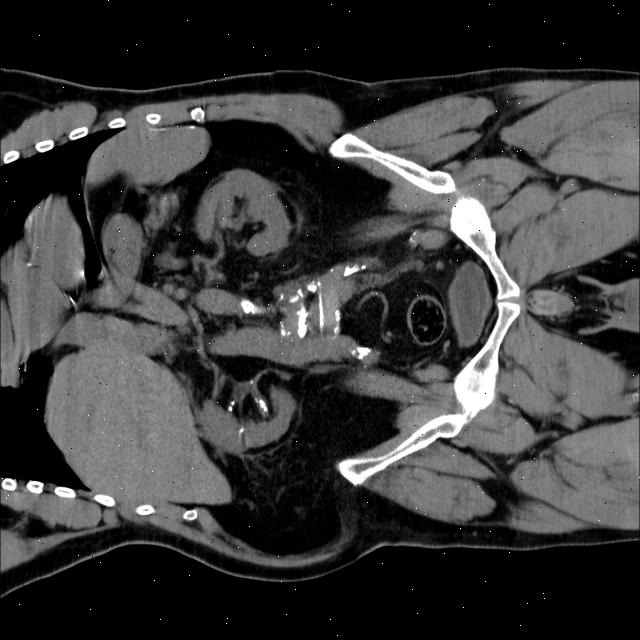kidneystone: (255, 398, 270, 417)
